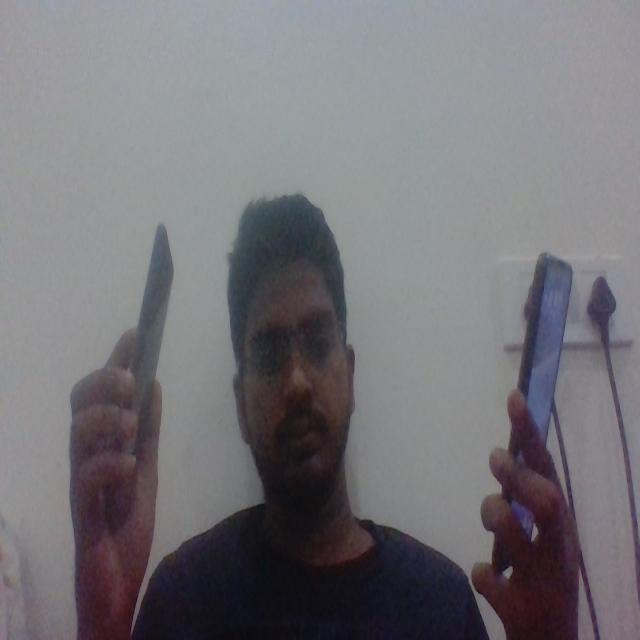Phone: (488, 250, 576, 578), (97, 219, 180, 532)
